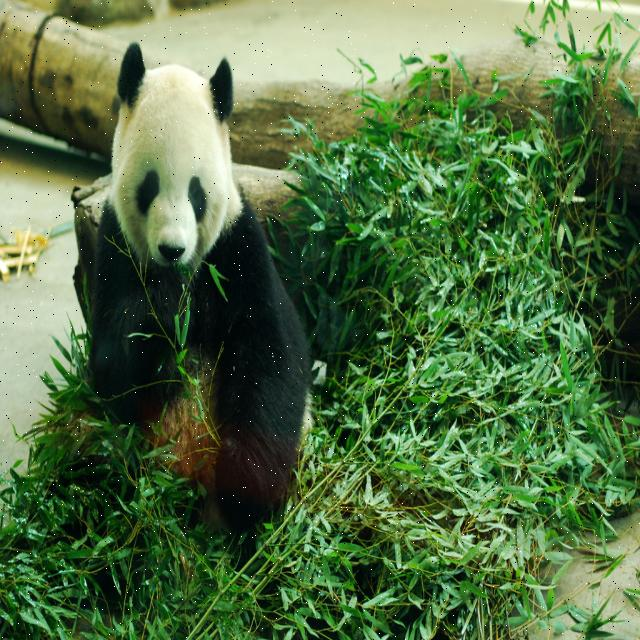panda: (88, 35, 310, 539)
